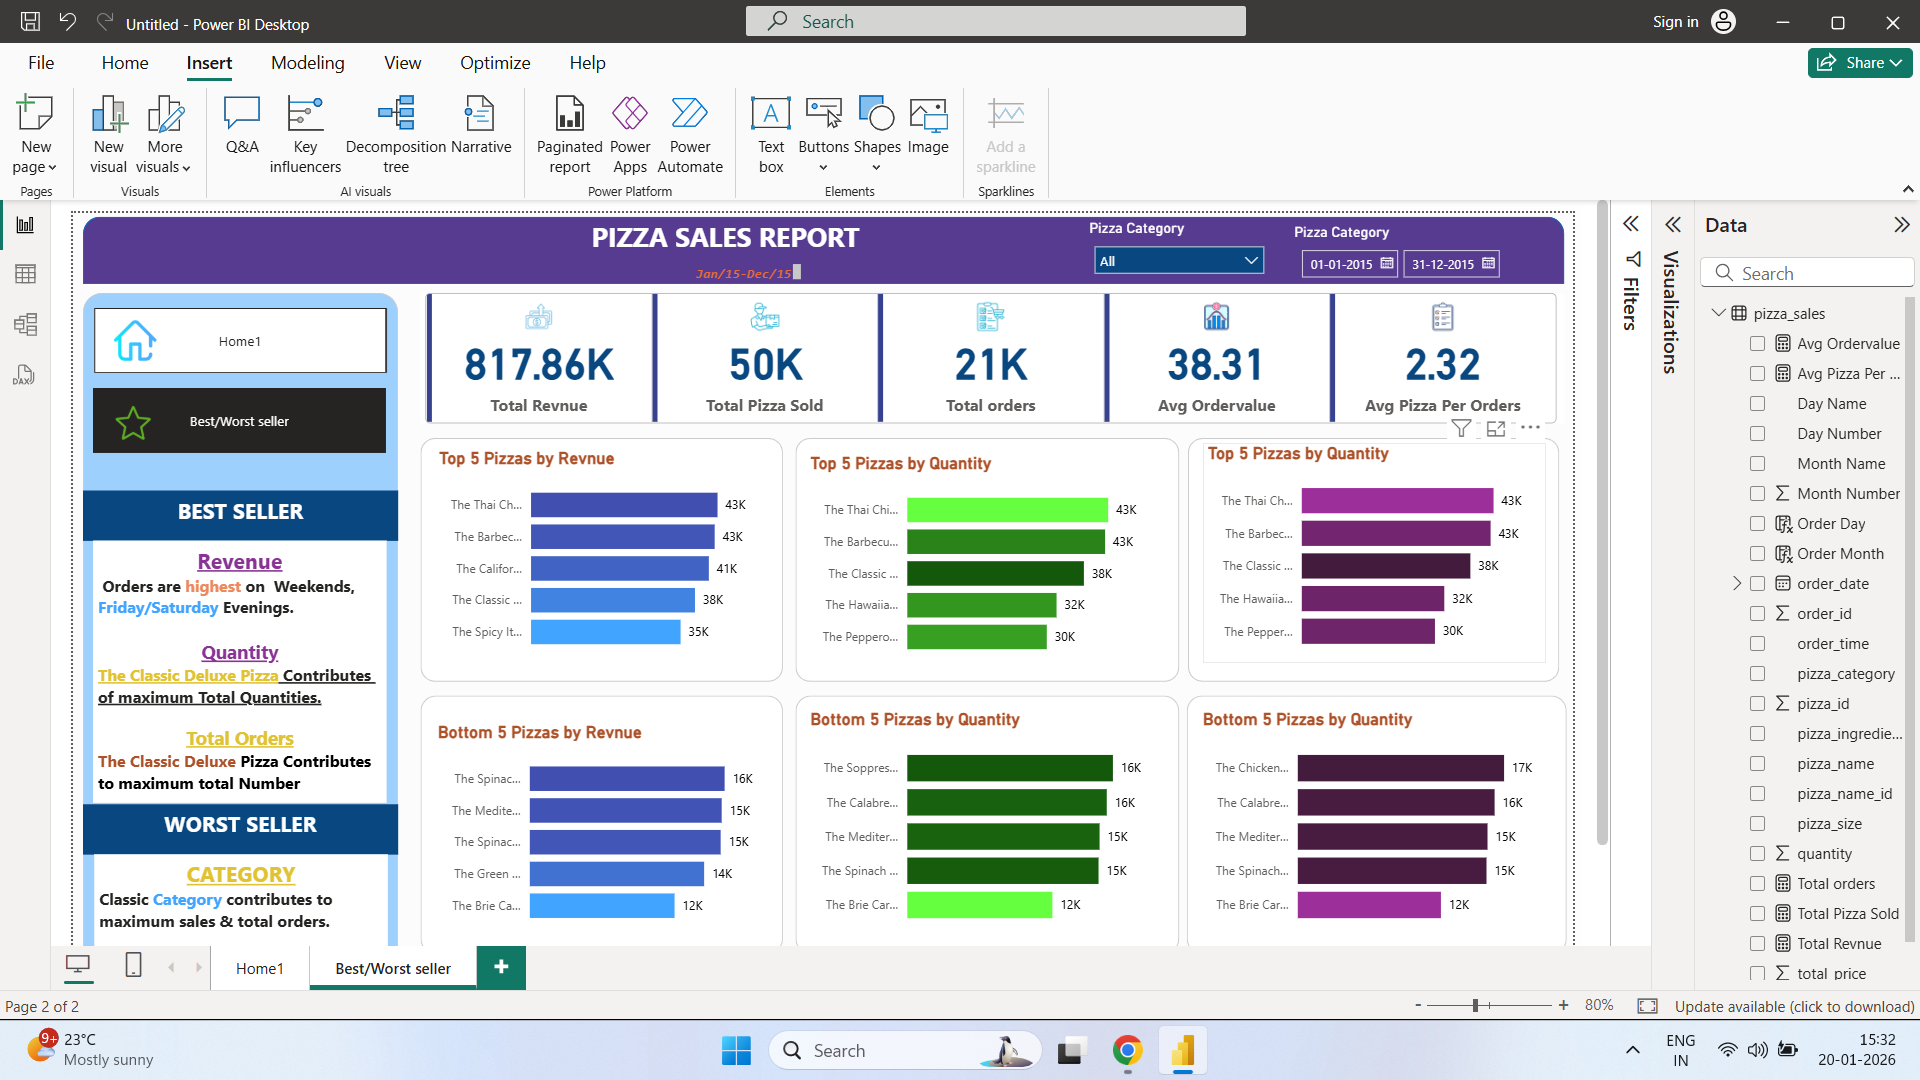

This screenshot's page, from the dashboard's own definition file:
{"tool":"powerbi","page":{"name":"Best/Worst seller","canvas":[1500,850],"ordinal":1},"visuals":[{"type":"cardVisual","fields":{"Data":["pizza_sales.Total Revnue","pizza_sales.Total Pizza Sold","pizza_sales.Total orders","pizza_sales.Avg Ordervalue","pizza_sales.Avg Pizza Per Orders"]},"box":[347.5,80,1143.8,150],"z":0},{"type":"shape","box":[10,3.8,1481.2,67.5],"z":1000},{"type":"textbox","box":[486.2,0,332.5,55],"z":2000},{"type":"textbox","box":[617.5,46.2,115,25],"z":3000},{"type":"shape","box":[10,80,315,770],"z":4000},{"type":"shape","box":[718.8,257.5,383.8,265],"z":5000},{"type":"textbox","box":[10,277.5,315,50],"z":6000},{"type":"textbox","box":[20,327.5,293.8,262.5],"z":7000},{"type":"textbox","box":[10,591.2,315,50],"z":8000},{"type":"textbox","box":[21.2,641.2,293.8,195],"z":9000},{"type":"slicer","title":"Pizza Category","fields":{"Values":["pizza_sales.pizza_category"]},"box":[1011.2,6.2,190,61.2],"z":10000},{"type":"slicer","title":"Pizza Category","fields":{"Values":["pizza_sales.order_date"]},"box":[1216.2,10,257.5,55],"z":11000},{"type":"shape","box":[348.8,257.5,362.5,263.8],"z":12000},{"type":"shape","box":[1120,556.2,380,292.5],"z":13000},{"type":"shape","box":[1111.2,257.5,380,265],"z":14000},{"type":"shape","box":[333.8,556.2,388.8,293.8],"z":15000},{"type":"shape","box":[727.5,556.2,383.8,293.8],"z":16000},{"type":"barChart","title":"Top 5 Pizzas by Revnue","fields":{"Y":["pizza_sales.Total Revnue"],"Category":["pizza_sales.pizza_name"]},"box":[362.5,277.5,336.2,233.8],"z":17000},{"type":"barChart","title":"Bottom 5 Pizzas by Revnue","fields":{"Y":["pizza_sales.Total Revnue"],"Category":["pizza_sales.pizza_name"]},"box":[347.5,573.8,350,262.5],"z":18000},{"type":"barChart","title":"Bottom 5 Pizzas by Quantity","fields":{"Y":["pizza_sales.Total Revnue"],"Category":["pizza_sales.pizza_name"]},"box":[737.5,573.8,356.2,262.5],"z":19000},{"type":"barChart","title":"Top 5 Pizzas by Quantity","fields":{"Y":["pizza_sales.Total Revnue"],"Category":["pizza_sales.pizza_name"]},"box":[738.8,277.5,356.2,240],"z":20000},{"type":"barChart","title":"Top 5 Pizzas by Quantity","fields":{"Y":["pizza_sales.Total Revnue"],"Category":["pizza_sales.pizza_name"]},"box":[1130,277.5,343.8,233.8],"z":21000},{"type":"barChart","title":"Bottom 5 Pizzas by Quantity","fields":{"Y":["pizza_sales.Total Revnue"],"Category":["pizza_sales.pizza_name"]},"box":[1136.2,583.8,348.8,252.5],"z":22000},{"type":"pageNavigator","box":[21.2,95,292.5,65],"z":23000},{"type":"image","box":[230,182.5,66.2,47.5],"z":24000},{"type":"pageNavigator","box":[20,175,293.8,65],"z":25000},{"type":"image","box":[36.2,97.5,52.5,60],"z":26000},{"type":"image","box":[36.2,187.5,47.5,45],"z":27000}]}

Visuals, with their boxes on the page's 1500x850 design canvas (x1, y1, x2, y2). These are canvas units, not pixel positions in the 1920x1080 screenshot, which may show the page scaled, cropped or inside an application window:
cardVisual - pizza_sales.Total Revnue x pizza_sales.Total Pizza Sold: box=[348, 80, 1491, 230]
shape: box=[10, 4, 1491, 71]
textbox: box=[486, 0, 819, 55]
textbox: box=[618, 46, 732, 71]
shape: box=[10, 80, 325, 850]
shape: box=[719, 258, 1103, 522]
textbox: box=[10, 278, 325, 328]
textbox: box=[20, 328, 314, 590]
textbox: box=[10, 591, 325, 641]
textbox: box=[21, 641, 315, 836]
"Pizza Category" slicer: box=[1011, 6, 1201, 67]
"Pizza Category" slicer: box=[1216, 10, 1474, 65]
shape: box=[349, 258, 711, 521]
shape: box=[1120, 556, 1500, 849]
shape: box=[1111, 258, 1491, 522]
shape: box=[334, 556, 723, 850]
shape: box=[728, 556, 1111, 850]
"Top 5 Pizzas by Revnue" barChart: box=[362, 278, 699, 511]
"Bottom 5 Pizzas by Revnue" barChart: box=[348, 574, 698, 836]
"Bottom 5 Pizzas by Quantity" barChart: box=[738, 574, 1094, 836]
"Top 5 Pizzas by Quantity" barChart: box=[739, 278, 1095, 518]
"Top 5 Pizzas by Quantity" barChart: box=[1130, 278, 1474, 511]
"Bottom 5 Pizzas by Quantity" barChart: box=[1136, 584, 1485, 836]
pageNavigator: box=[21, 95, 314, 160]
image: box=[230, 182, 296, 230]
pageNavigator: box=[20, 175, 314, 240]
image: box=[36, 98, 89, 158]
image: box=[36, 188, 84, 232]
